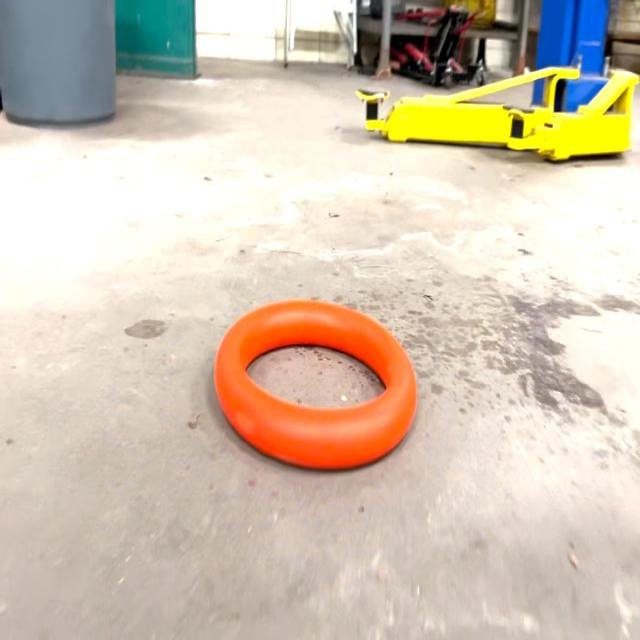note: (213, 296, 418, 477)
